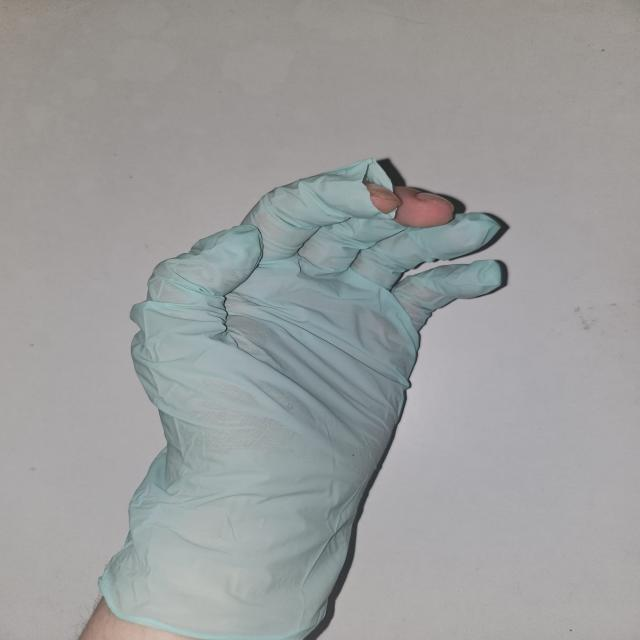gloves_damaged: (97, 157, 511, 640)
